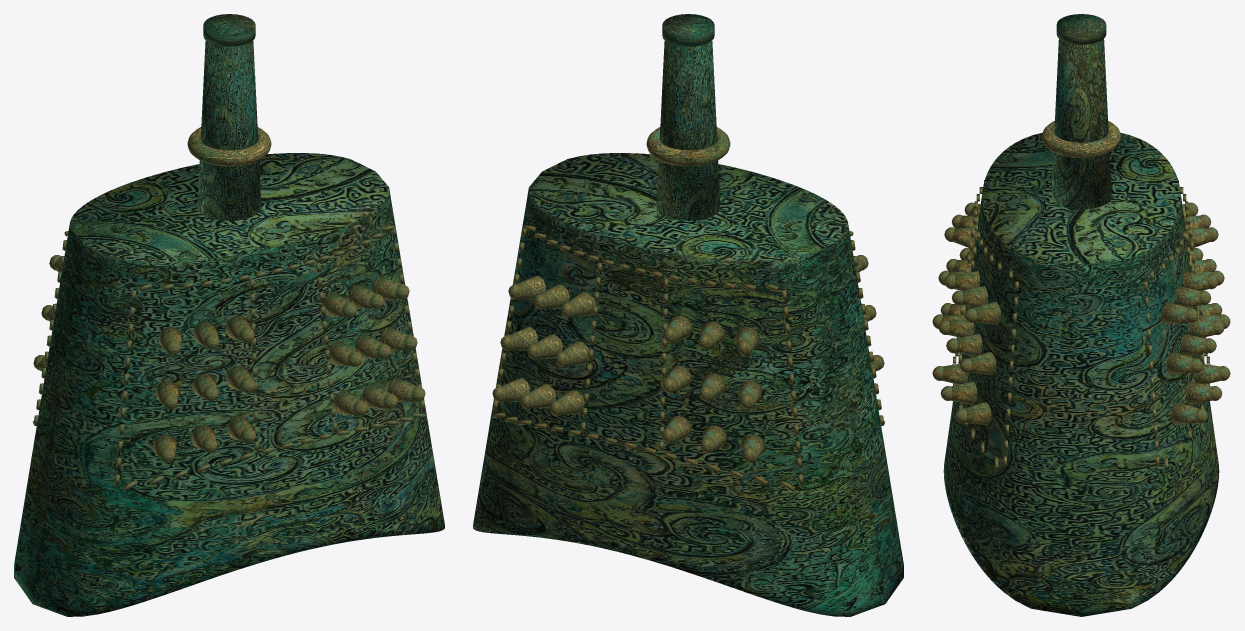
Rendered from bell.glb.
3 views of the same model, side by side, from view 1: azimuth 30°, elevation 25°; view 2: azimuth 150°, elevation 25°; view 3: azimuth 270°, elevation 25° (orthographic). The views are drawn at different scales.
Parts seen in each view (by area): view 1: bell; view 2: bell; view 3: bell.
Boxes of the visible parts, bbox=[...] form: bell: bbox=[14, 14, 444, 616]; bell: bbox=[473, 14, 903, 616]; bell: bbox=[932, 14, 1230, 616].
Bounding box in the file's own units: 0.774 × 1 × 0.5371.
Materials: 1 (1 with a texture image).
